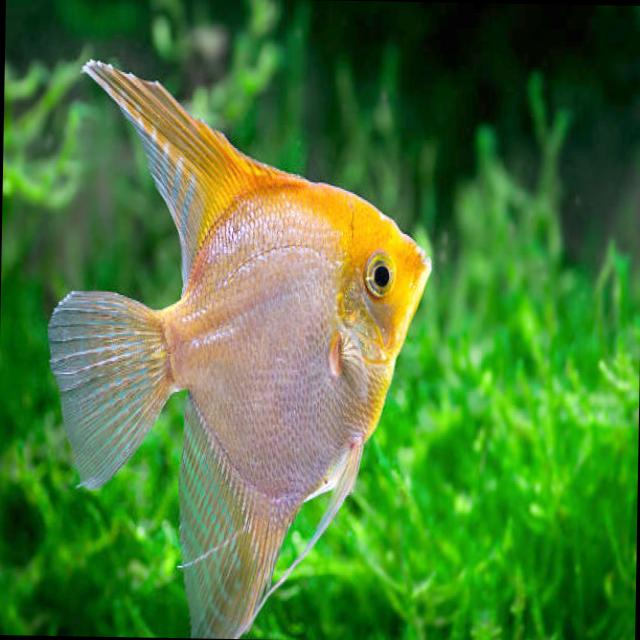AngelFish: (44, 57, 435, 640)
